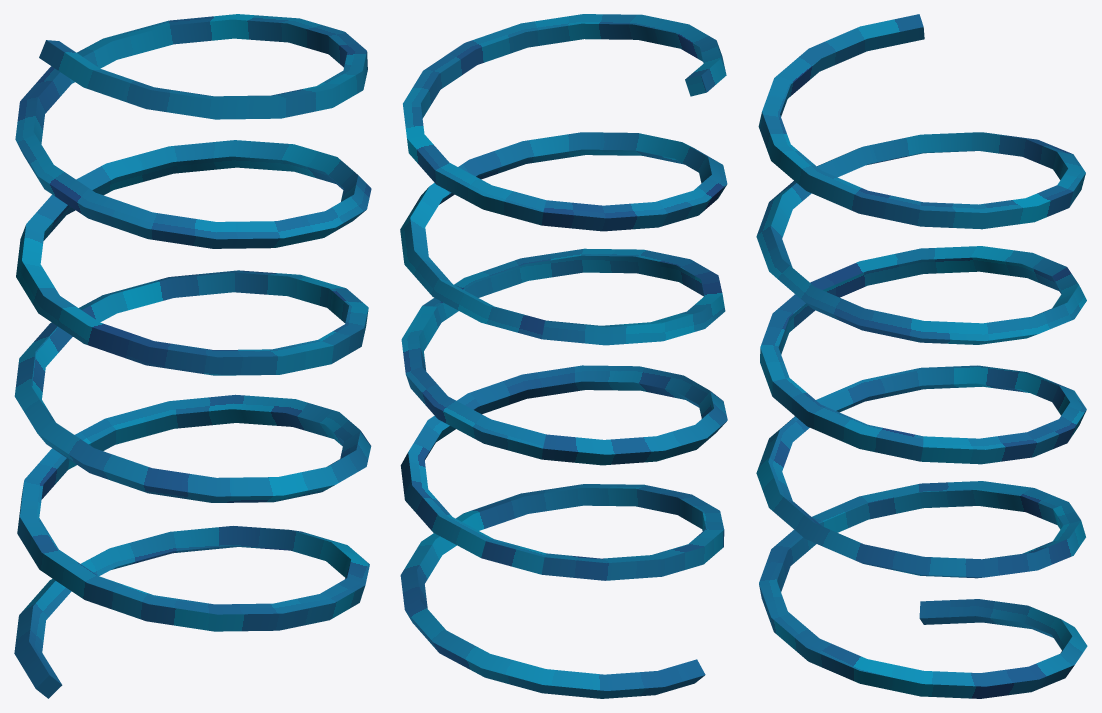
The model's file is coil_aqua.obj.
3 views of the same model, side by side, from view 1: azimuth 30°, elevation 25°; view 2: azimuth 150°, elevation 25°; view 3: azimuth 270°, elevation 25° (orthographic). The views are drawn at different scales.
Visible parts, largest first — view 1: Cube; view 2: Cube; view 3: Cube.
Boxes of the visible parts, bbox=[...] form: Cube: bbox=[14, 14, 371, 698]; Cube: bbox=[400, 14, 727, 698]; Cube: bbox=[756, 14, 1087, 698].
Bounding box in the file's own units: 0.7678 × 1.56 × 0.7677.
